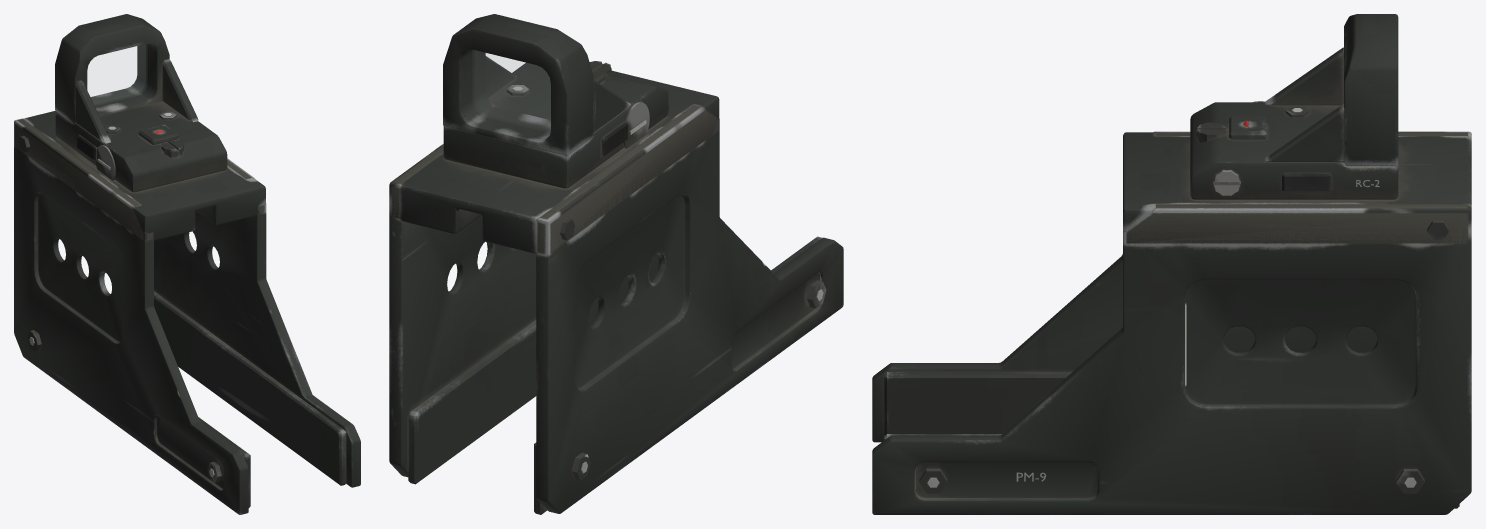
File: ponte_mira_pistola.glb
The picture shows the model from 3 angles, left to right: view 1: azimuth 30°, elevation 25°; view 2: azimuth 150°, elevation 25°; view 3: azimuth 270°, elevation 25°; orthographic projection. The views are drawn at different scales.
Parts seen in each view (by area): view 1: ponte_mira_pistola_mira, ponte_mira_pistola_lente; view 2: ponte_mira_pistola_mira, ponte_mira_pistola_lente; view 3: ponte_mira_pistola_mira.
Part boxes in pixels (x1,y1,x2,y2): ponte_mira_pistola_mira: (14, 14, 360, 514); ponte_mira_pistola_lente: (88, 44, 145, 104); ponte_mira_pistola_mira: (389, 14, 843, 514); ponte_mira_pistola_lente: (475, 51, 550, 130); ponte_mira_pistola_mira: (872, 14, 1471, 514).
Bounding box in the file's own units: 0.033 × 0.0806 × 0.098.
2 materials, 1 textured.
